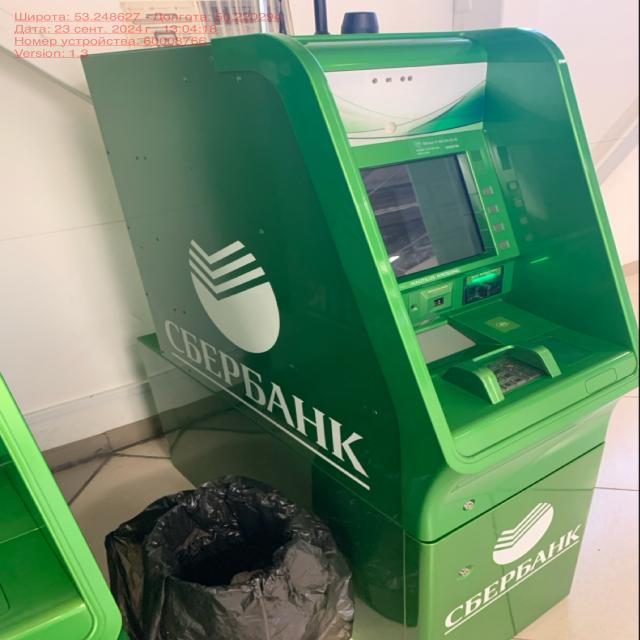bank: (77, 34, 640, 639)
